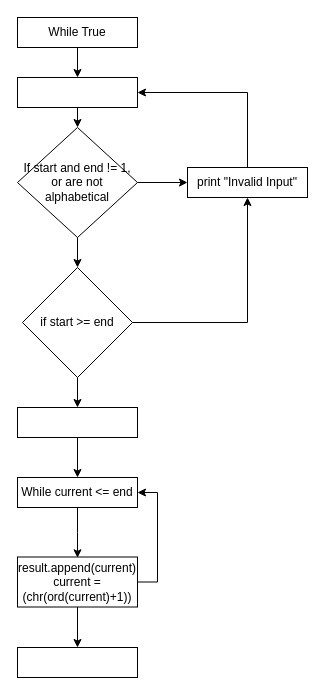
This 325x695 diagram has some shape labels left out. Here are the shapes that lost their labels. From the top down, the centre of each, then its label:
At (x=77, y=92): "Take Input (start, end)".
At (x=77, y=422): "cuurent = start".
At (x=77, y=662): "Print(*result)".
